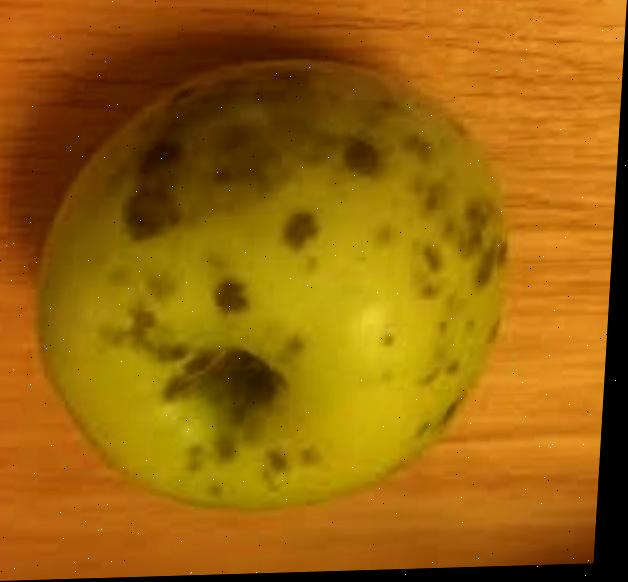BLOTCH: (19, 56, 526, 535)
